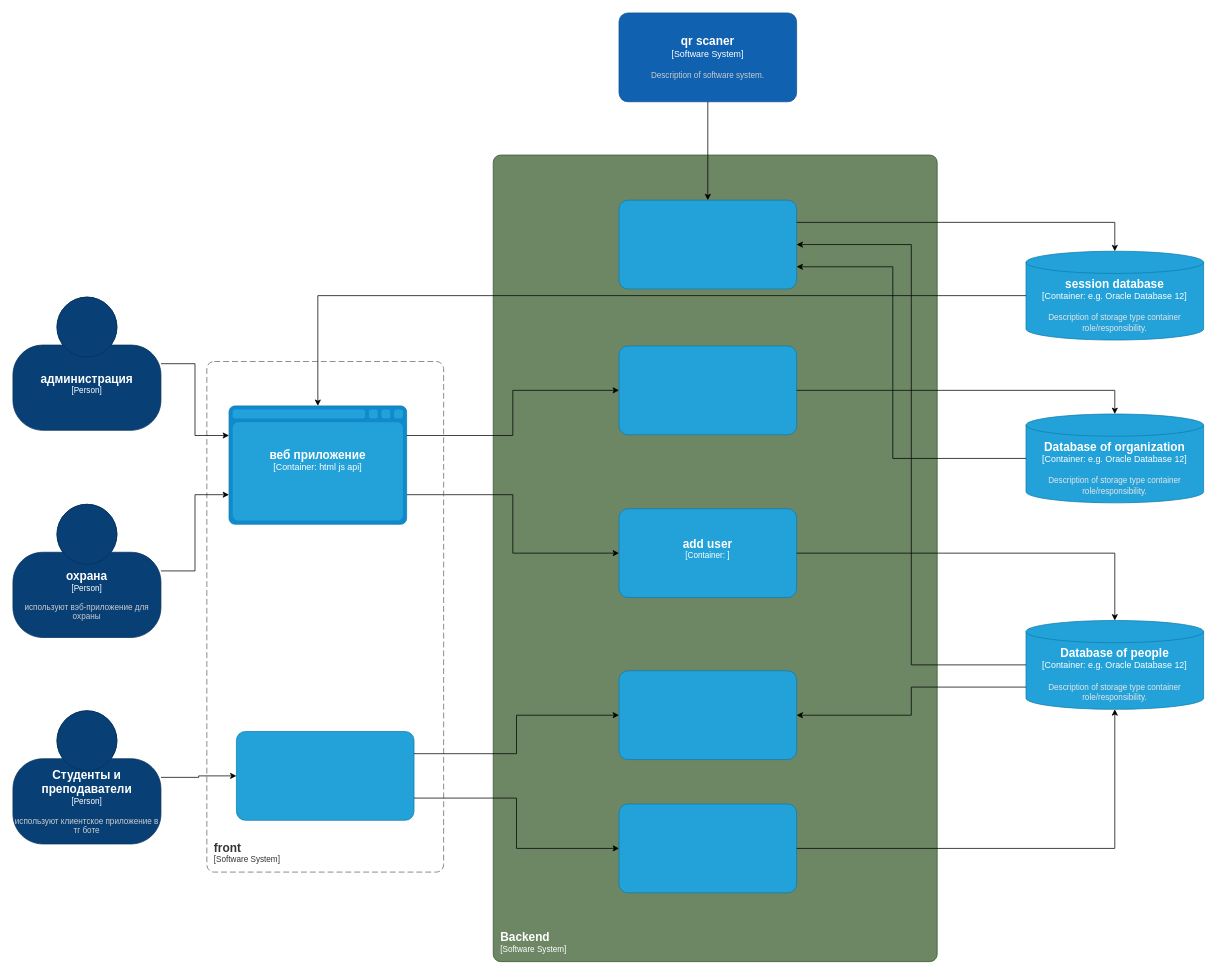
Image size: 1217x975. Some labels were removed from this diagram. The shapes that lost their labels are listed below. From the top down, each one's centre as x and y in pixels, then its label:
At (707,244): "QR check [Container: ]".
At (707,390): "add organization [Container: ]".
At (707,715): "autorization [Container: ]".
At (325,775): "тг бот [Container: api python]".
At (707,848): "qr generator [Container: ]".
